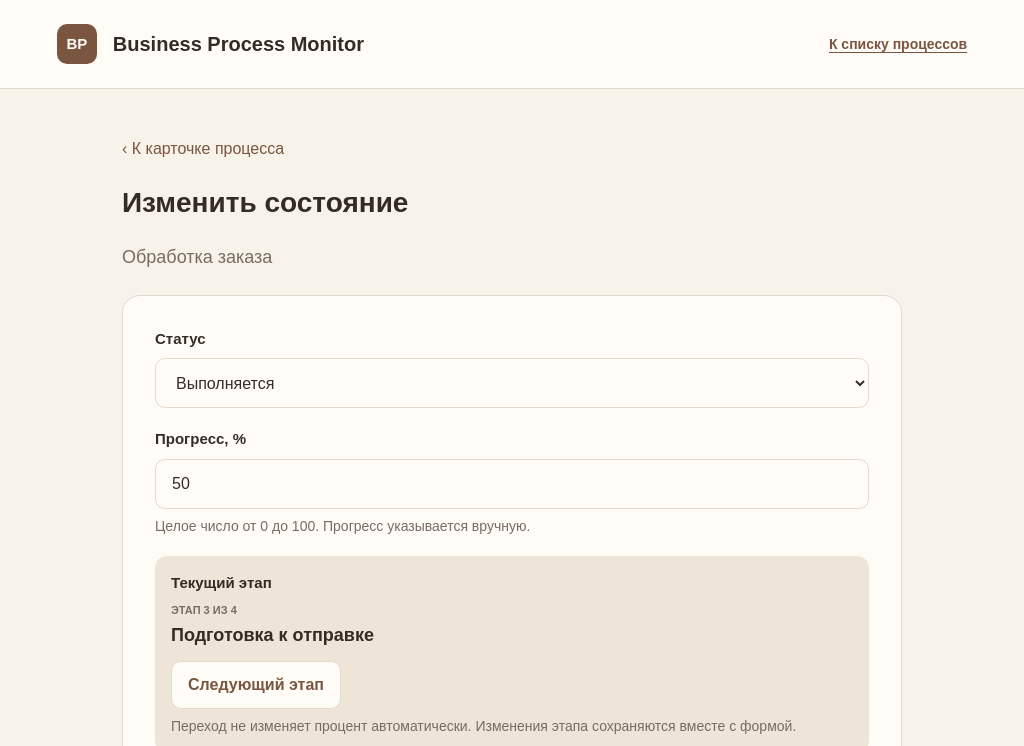
Test: R1 / FE-016: валидация перед сохранением › V06: «Завершён» с 20% отклоняется даже на последнем этапе
Click the button "Следующий этап" at (256, 685), box [171,661,341,709]
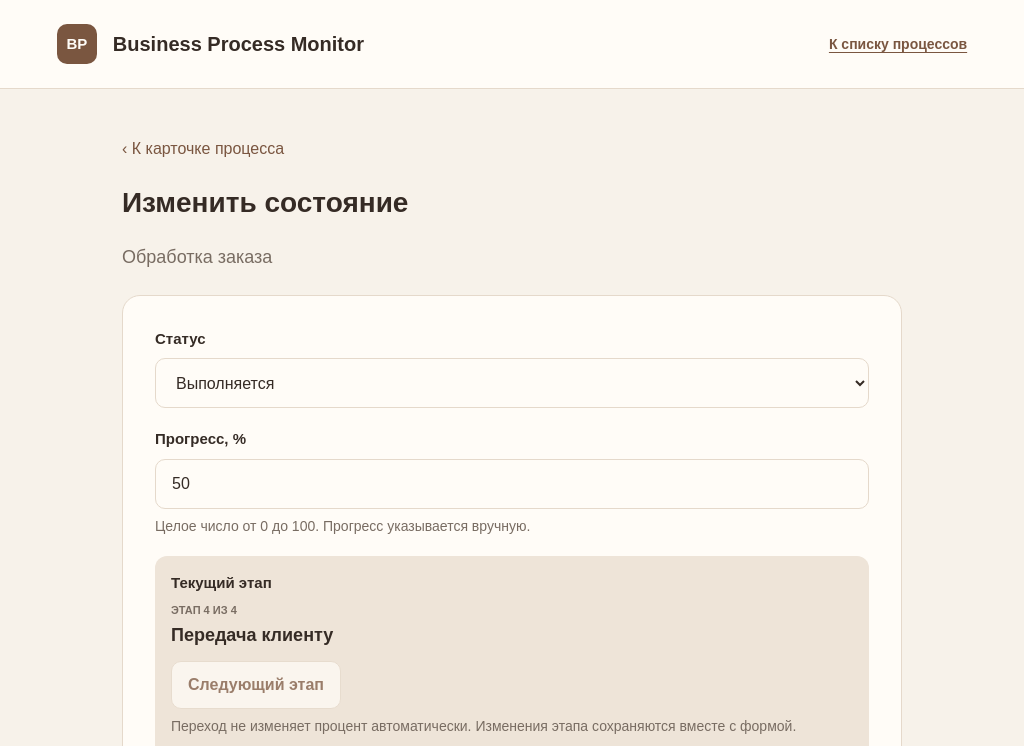
Select "Завершён" in the dropdown labelled "Статус" at (512, 383), box [155,358,869,408]
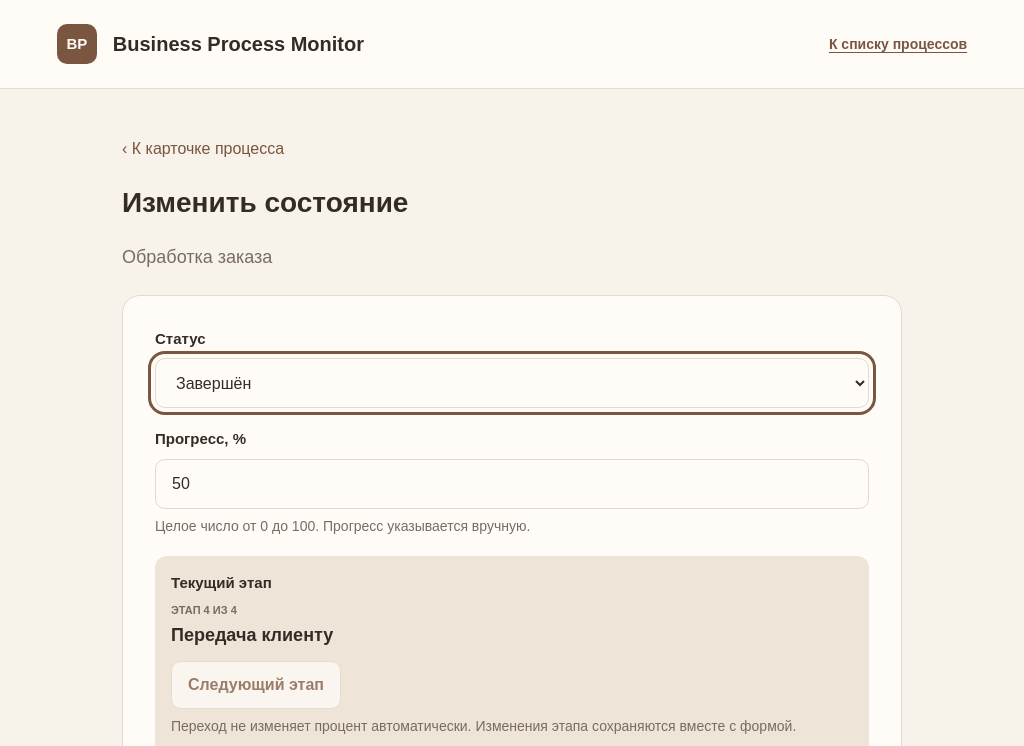
Replace the text in the field labelled "Прогресс, %" with "20" at (512, 484), box [155,459,869,509]
(page scrolled)
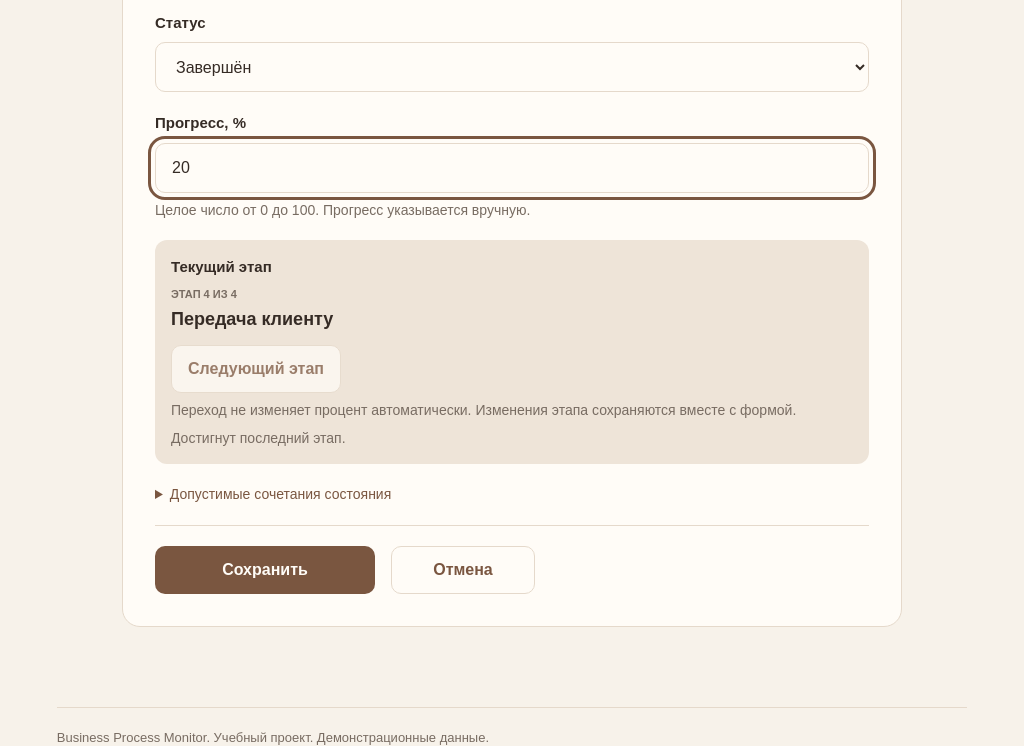
Click the button "Сохранить" at (265, 570), box [155,546,375,594]
(page scrolled)
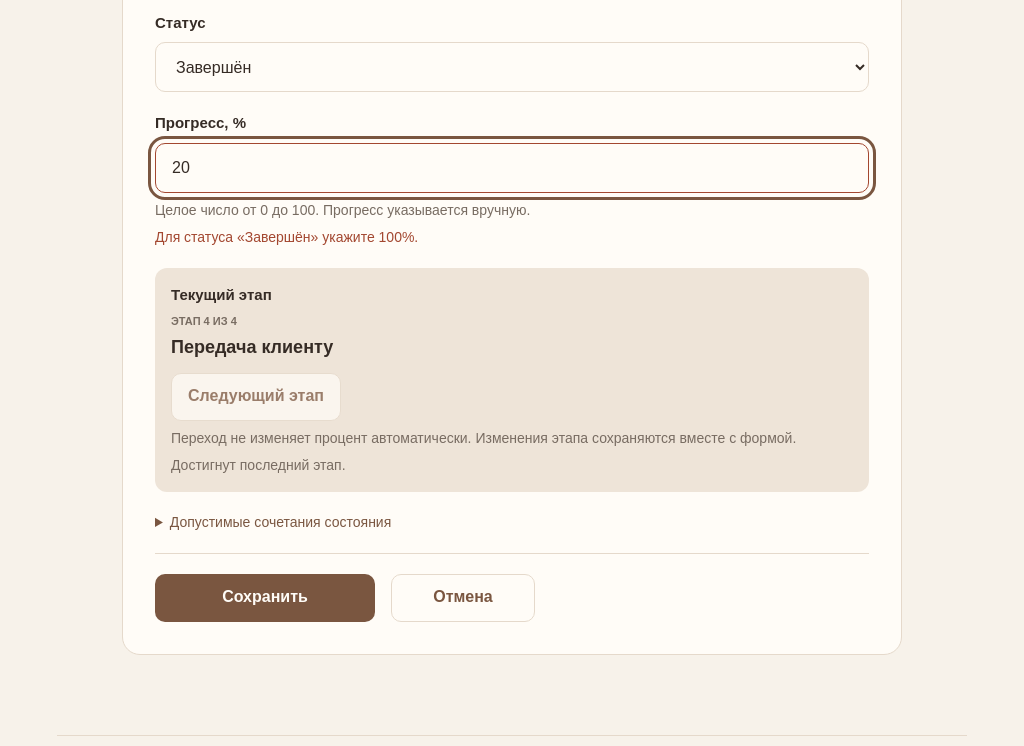
Expected: the text "Для статуса «Завершён» укажите 100%." is shown, [155,229,418,245]
